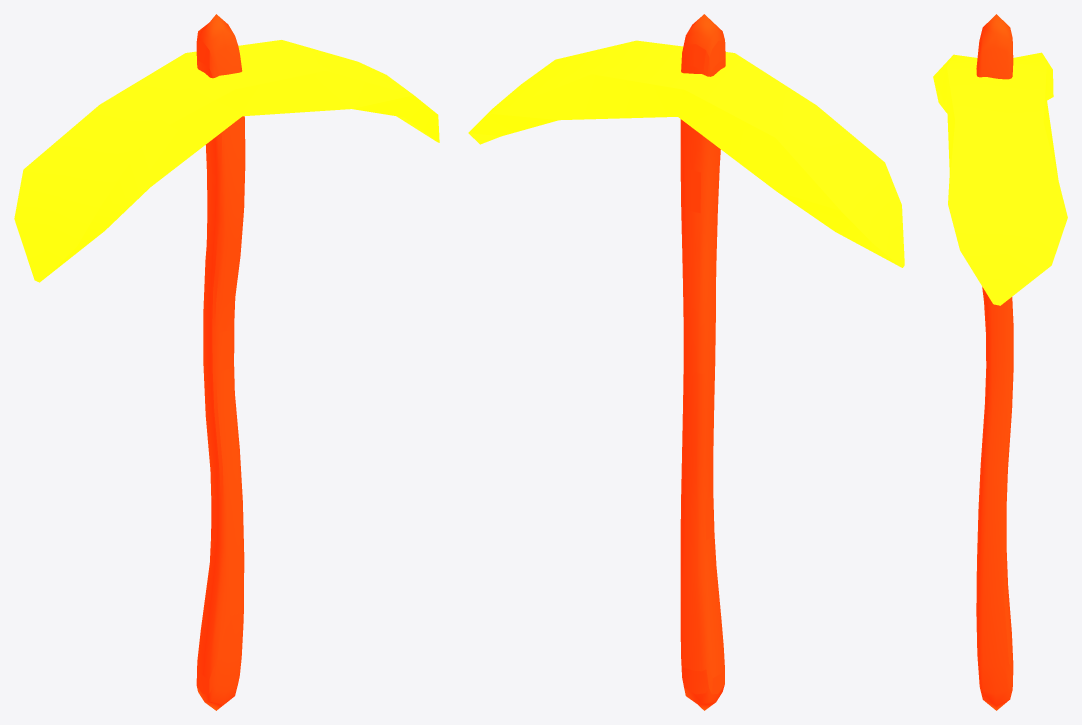
The model's file is Pix3.fbx.
The picture shows the model from 3 angles, left to right: view 1: azimuth 30°, elevation 25°; view 2: azimuth 150°, elevation 25°; view 3: azimuth 270°, elevation 25°; orthographic projection.
Visible parts, largest first — view 1: Plane.001, Pickaxe.001; view 2: Plane.001, Pickaxe.001; view 3: Plane.001, Pickaxe.001.
Part boxes in pixels (<box>): Plane.001: <box>14,40,439,282</box>; Pickaxe.001: <box>196,14,245,710</box>; Plane.001: <box>468,40,904,267</box>; Pickaxe.001: <box>680,14,725,710</box>; Plane.001: <box>933,52,1067,305</box>; Pickaxe.001: <box>976,14,1013,710</box>.
Size of the model in its own units: 196 by 317 by 55.52.
